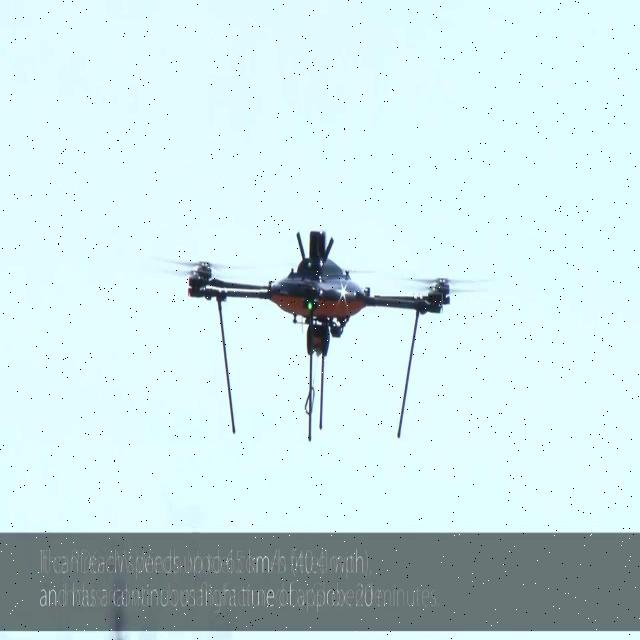UAV: (170, 230, 476, 443)
